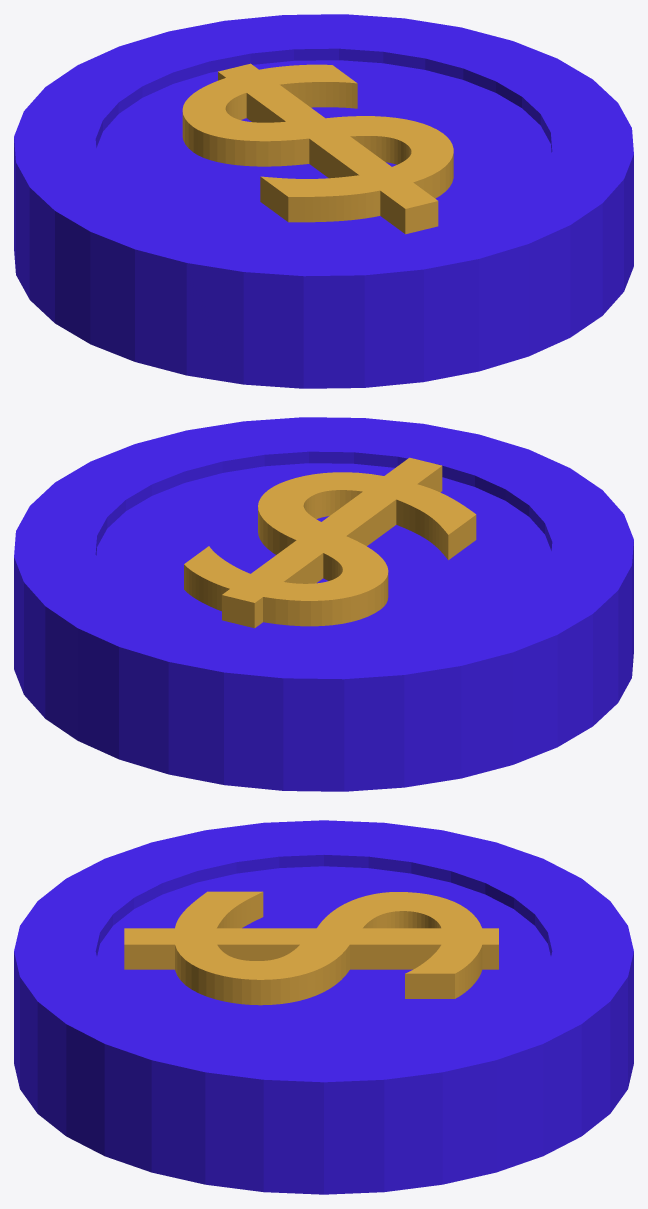
File: coin.fbx
3 renders of one model, top to bottom at view 1: azimuth 30°, elevation 25°; view 2: azimuth 150°, elevation 25°; view 3: azimuth 270°, elevation 25°, orthographic.
Visible parts, largest first — view 1: Cylinder, Text; view 2: Cylinder, Text; view 3: Cylinder, Text.
Part boxes in pixels (box(x1,y1,x2,y2)): Cylinder: box(14, 14, 633, 388); Text: box(182, 63, 453, 234); Cylinder: box(14, 417, 633, 791); Text: box(184, 457, 476, 628); Cylinder: box(14, 820, 633, 1194); Text: box(124, 891, 498, 1005).
Bounding box in the file's own units: 200 × 44.92 × 200.
